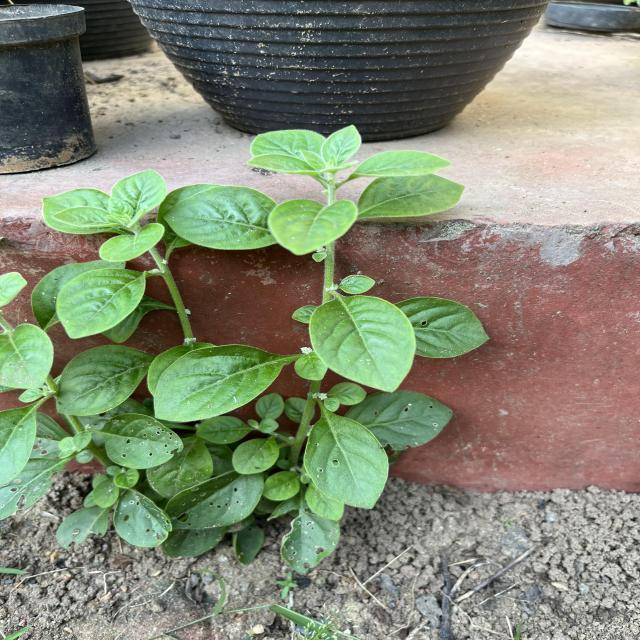Aerva lanata: (152, 342, 292, 425), (307, 292, 418, 396), (302, 406, 392, 512), (159, 184, 283, 253), (53, 342, 152, 418), (54, 266, 153, 341), (355, 171, 468, 220), (347, 148, 454, 179), (248, 126, 328, 161), (110, 168, 168, 215), (319, 122, 364, 163)
